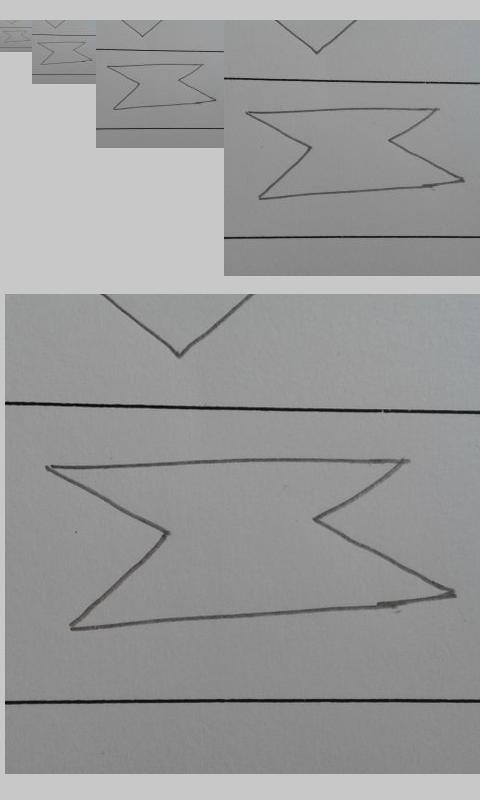edit_text: (46, 456, 457, 634), (242, 106, 465, 200), (107, 63, 217, 111), (37, 41, 92, 65), (2, 30, 30, 43)
